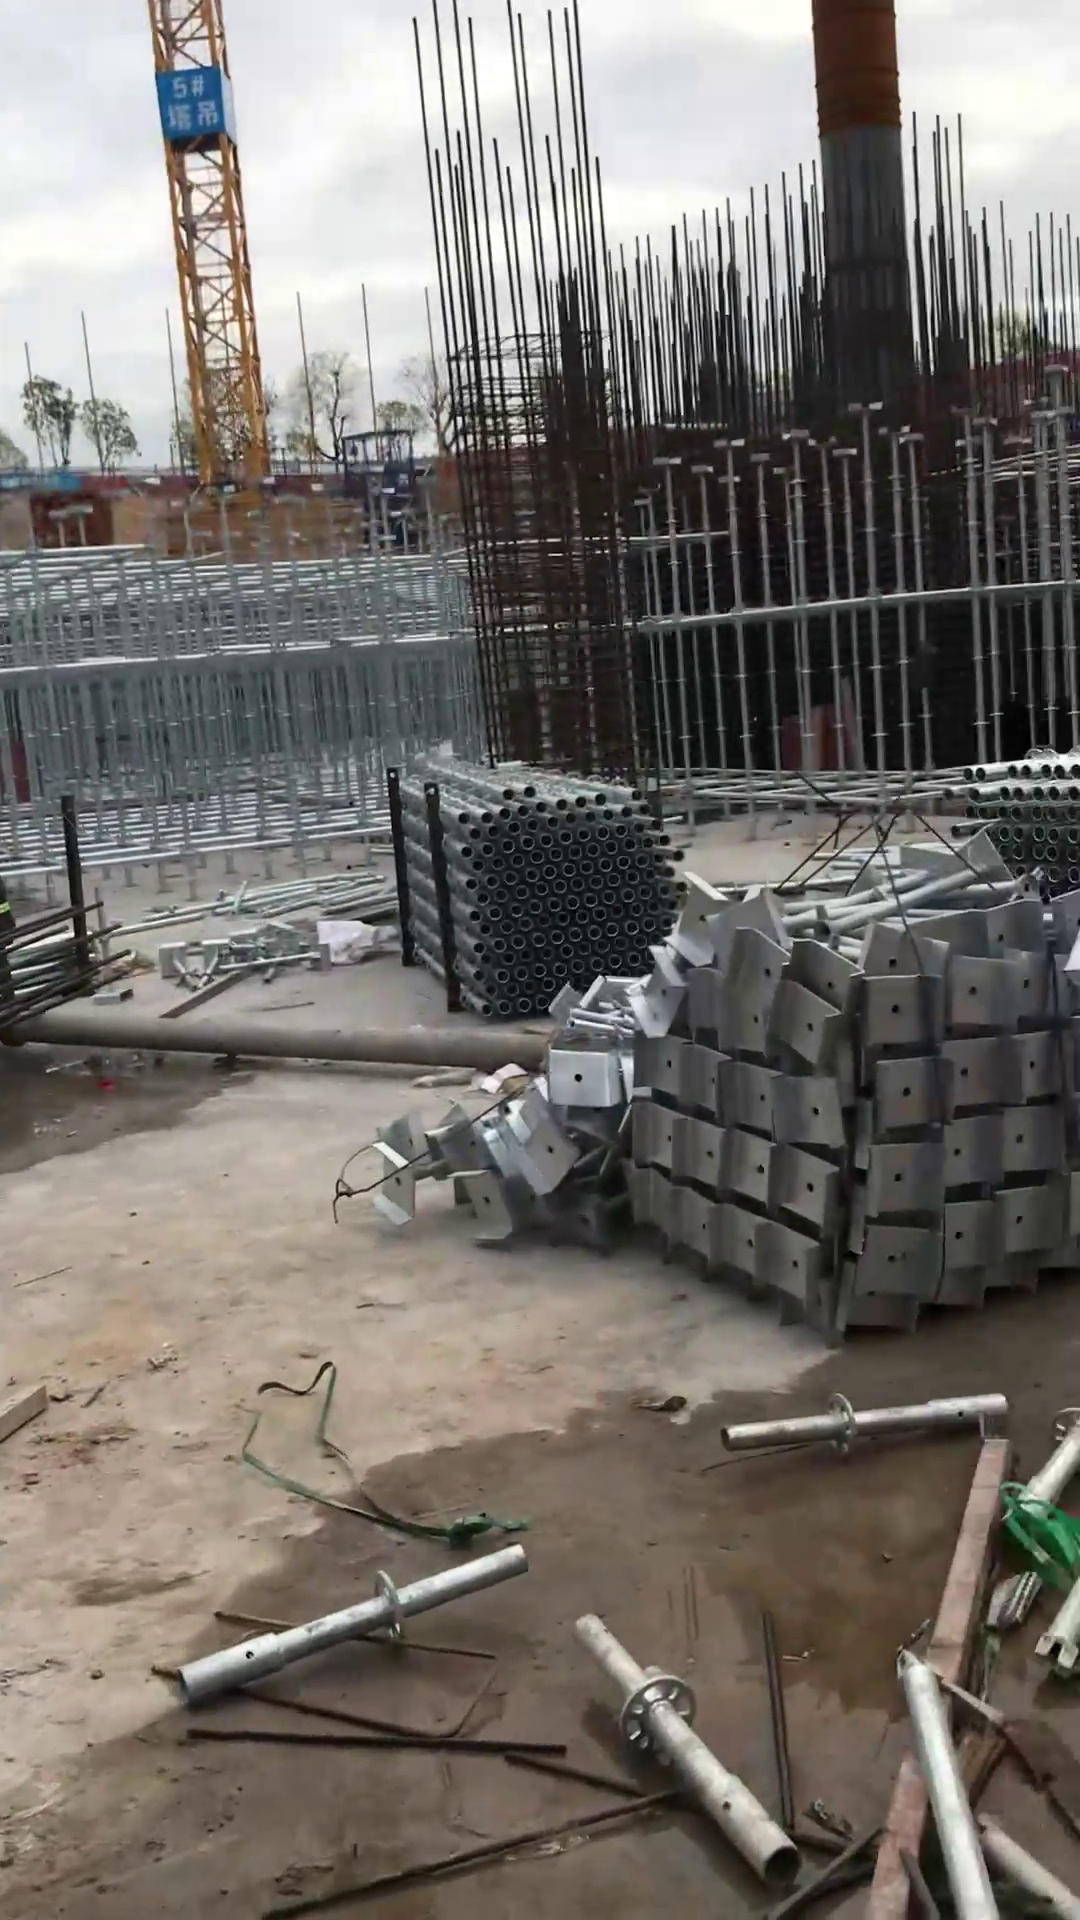scaffold: (392, 744, 702, 1025), (945, 735, 1080, 911)
